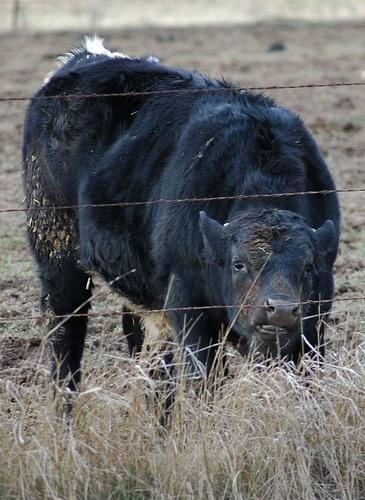cow: (21, 36, 346, 418)
